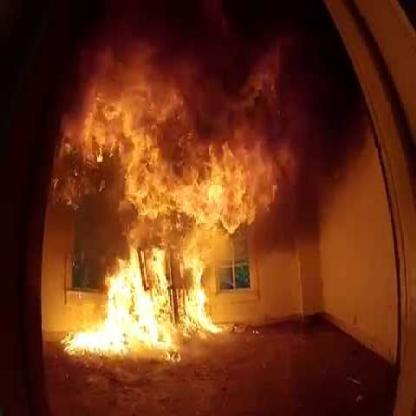fire: (65, 79, 284, 366)
smoke: (0, 3, 377, 238)
